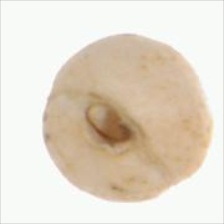L3: (84, 96, 139, 145)
L4: (42, 33, 213, 203)
